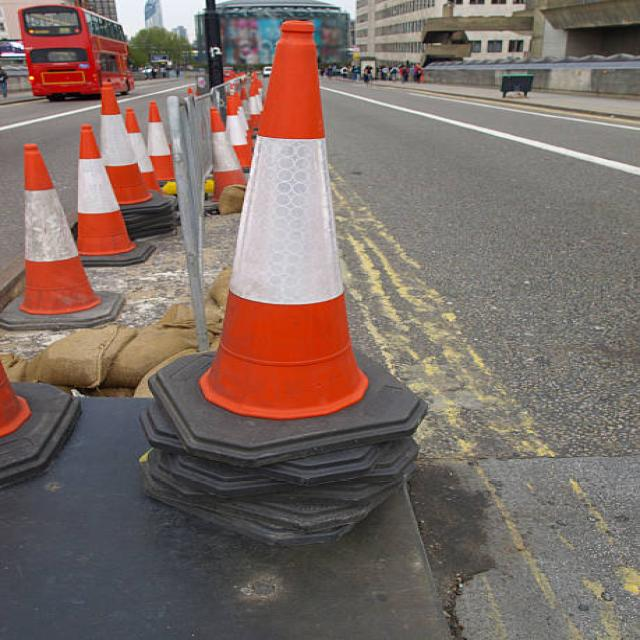Traffic Cone: (140, 2, 428, 422), (0, 122, 109, 321), (51, 119, 151, 270)
